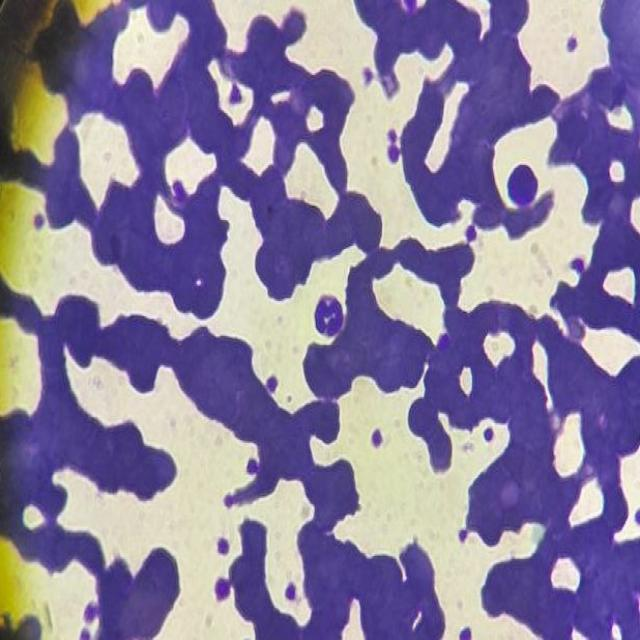Neutrofilo: (314, 294, 349, 338)
